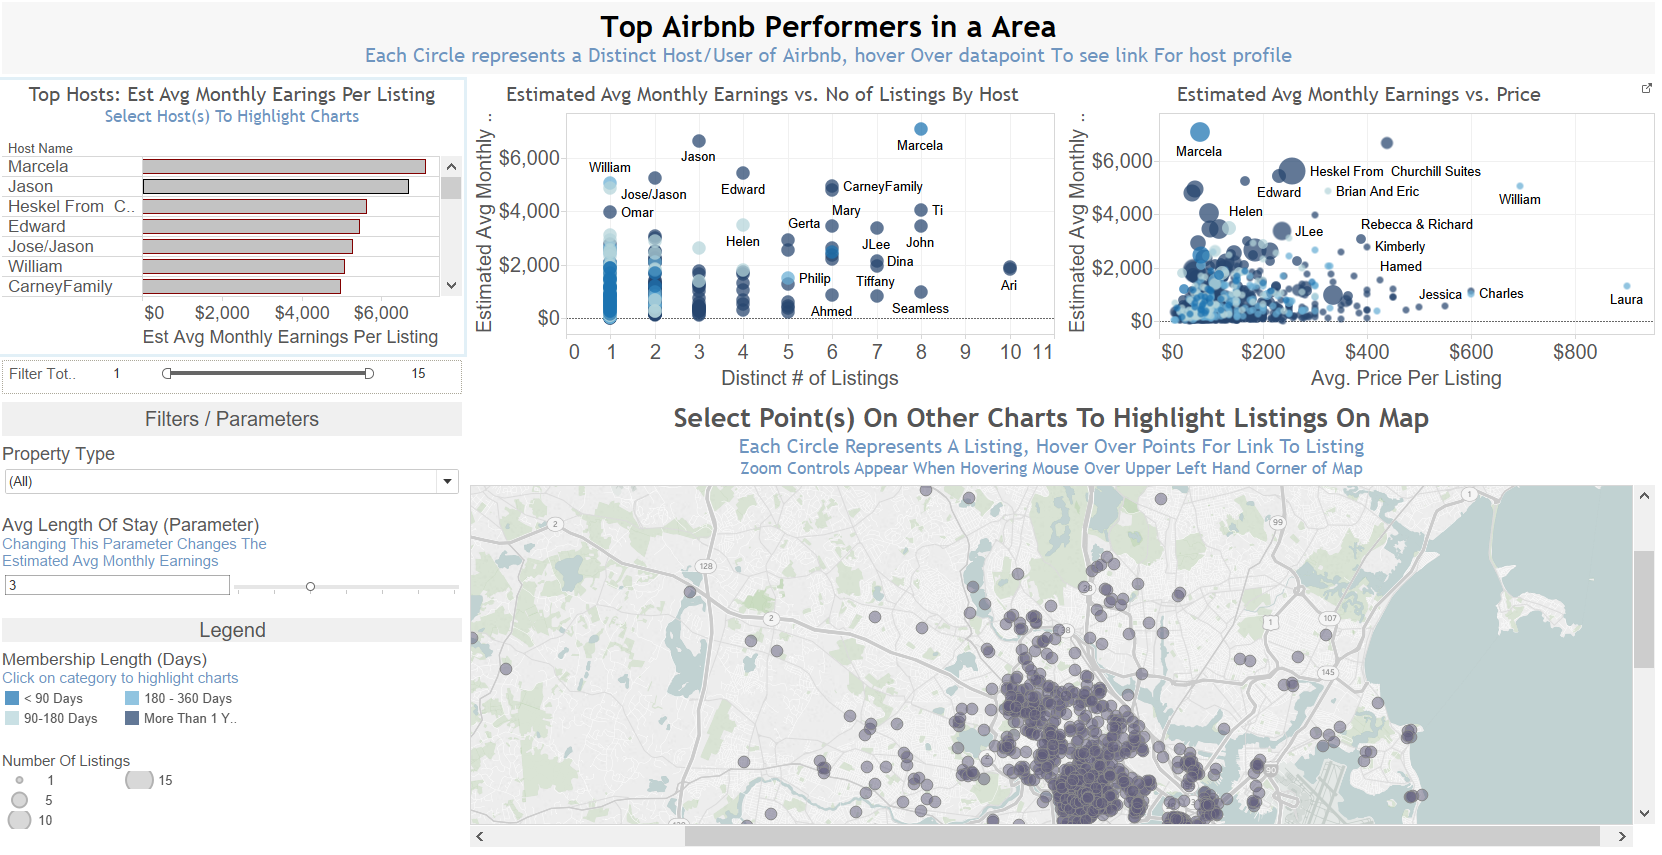

The dashboard page shown, as its layout file describes it:
{"tool":"tableau","page":{"name":"Top Airbnb Performers","canvas":[1000,1000],"units":"permille","ordinal":2},"visuals":[{"type":"text","box":[0,0,1000,97.4]},{"type":"worksheet","title":"TP Rank","mark":"Bar","rows":["UserID","HostName"],"cols":["Calculation_6531208085314508"],"box":[0,97.4,282.5,323.5]},{"type":"worksheet","title":"TP Num Listings vs Earn","mark":"Circle","rows":["Calculation_7871208073851191"],"cols":["Number of Records"],"box":[282.5,97.4,355.4,372.2]},{"type":"worksheet","title":"TP Price vs Earn","mark":"Circle","rows":["Calculation_7871208073851191"],"cols":["Price"],"box":[637.9,97.4,362.1,372.2]},{"type":"filter","title":"TP Rank","param":"[textscan.41976.576174421300].[sum:Number of Records:qk]","box":[0,420.9,282.5,48.7]},{"type":"text","box":[0,469.6,282.5,48.7]},{"type":"worksheet","title":"TP Map","mark":"Circle","rows":["Lat"],"cols":["Long"],"box":[282.5,469.6,717.5,530.4]},{"type":"filter","title":"TP Num Listings vs Earn","param":"[textscan.41976.576174421300].[none:SD_PropType:nk]","box":[0,518.3,282.5,82.5]},{"type":"parameter","param":"[Parameters].[Parameter 1]","box":[0,600.7,282.5,119.2]},{"type":"text","box":[0,719.9,282.5,37.2]},{"type":"legend","title":"TP Price vs Earn","param":"[textscan.41976.576174421300].[none:Calculation_2091208075929350:nk]","box":[0,757.1,282.5,119.2]},{"type":"legend","title":"TP Price vs Earn","param":"[textscan.41976.576174421300].[sum:Number of Records:qk]","box":[0,876.2,282.5,123.8]}]}

Visuals, with their boxes on the dashboard's canvas, which has no fixed pixel size, in thousandths of its width and height (x1, y1, x2, y2). These are canvas units, not pixel positions in the 1662x855 screenshot, which may show the page scaled, cropped or inside an application window:
text: pyautogui.locateOnScreen(0, 0, 1000, 97)
"TP Rank" worksheet (Bar marks): pyautogui.locateOnScreen(0, 97, 282, 421)
"TP Num Listings vs Earn" worksheet (Circle marks): pyautogui.locateOnScreen(282, 97, 638, 470)
"TP Price vs Earn" worksheet (Circle marks): pyautogui.locateOnScreen(638, 97, 1000, 470)
"TP Rank" filter: pyautogui.locateOnScreen(0, 421, 282, 470)
text: pyautogui.locateOnScreen(0, 470, 282, 518)
"TP Map" worksheet (Circle marks): pyautogui.locateOnScreen(282, 470, 1000, 1000)
"TP Num Listings vs Earn" filter: pyautogui.locateOnScreen(0, 518, 282, 601)
parameter: pyautogui.locateOnScreen(0, 601, 282, 720)
text: pyautogui.locateOnScreen(0, 720, 282, 757)
"TP Price vs Earn" legend: pyautogui.locateOnScreen(0, 757, 282, 876)
"TP Price vs Earn" legend: pyautogui.locateOnScreen(0, 876, 282, 1000)
